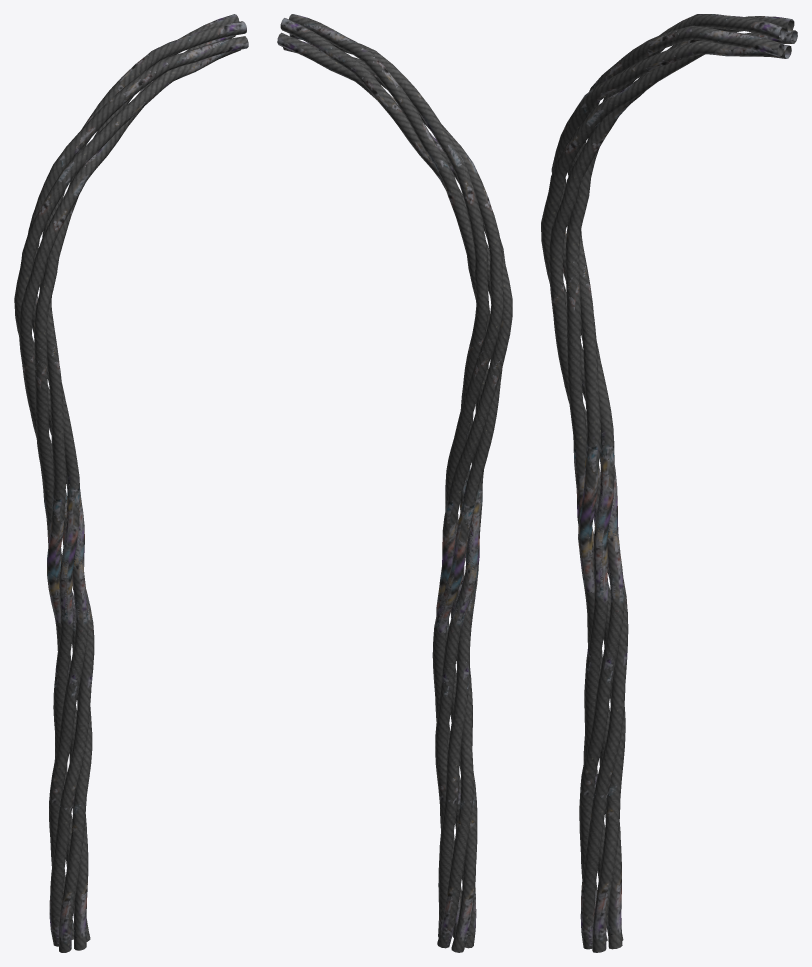
File: cable_upper.glb
3 renders of one model, left to right at view 1: azimuth 30°, elevation 25°; view 2: azimuth 150°, elevation 25°; view 3: azimuth 330°, elevation 25°, orthographic. The views are drawn at different scales.
Parts seen in each view (by area): view 1: sweep1; view 2: sweep1; view 3: sweep1.
Boxes of the visible parts, x1=… form: sweep1: x1=14, y1=14, x2=248, y2=952; sweep1: x1=277, y1=14, x2=512, y2=952; sweep1: x1=541, y1=14, x2=797, y2=952.
Size of the model in its own units: 0.6409 by 2.45 by 0.098.
Materials: 1 (1 with a texture image).
